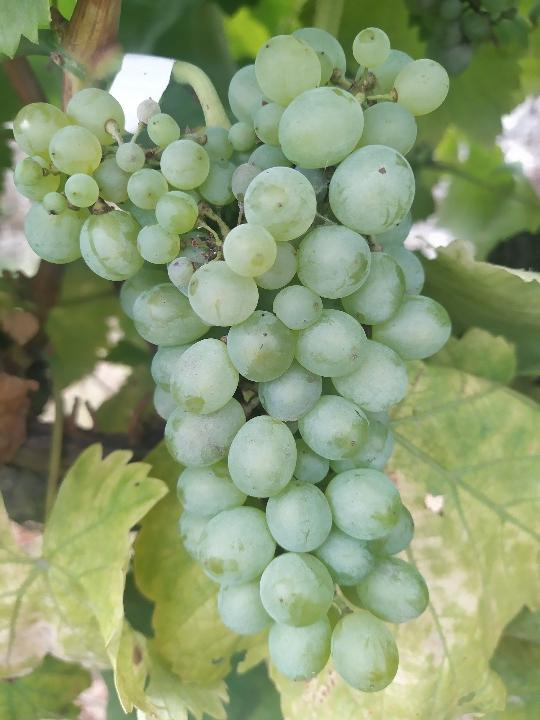grape: (10, 22, 455, 695)
